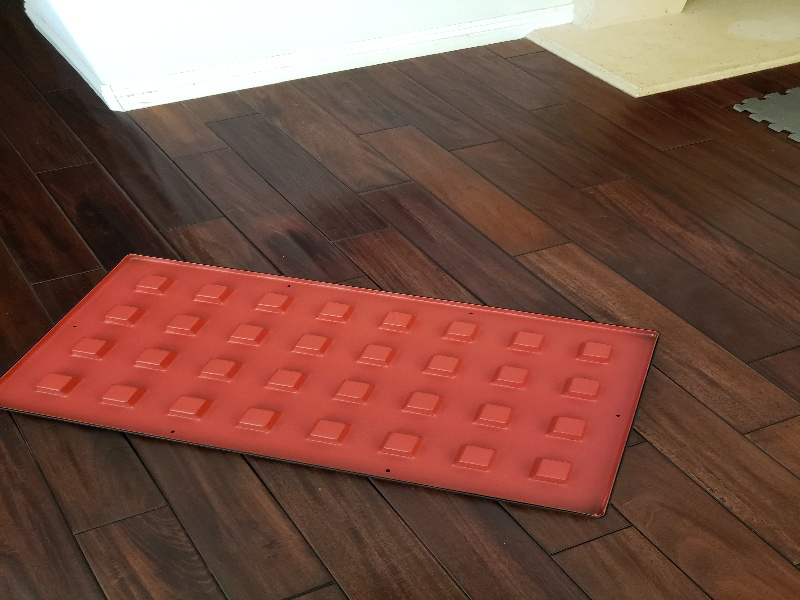skystone_base: (4, 227, 671, 528)
